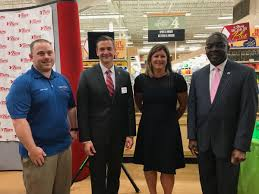Bad: (6, 35, 135, 194), (134, 32, 257, 194), (76, 36, 188, 194)
